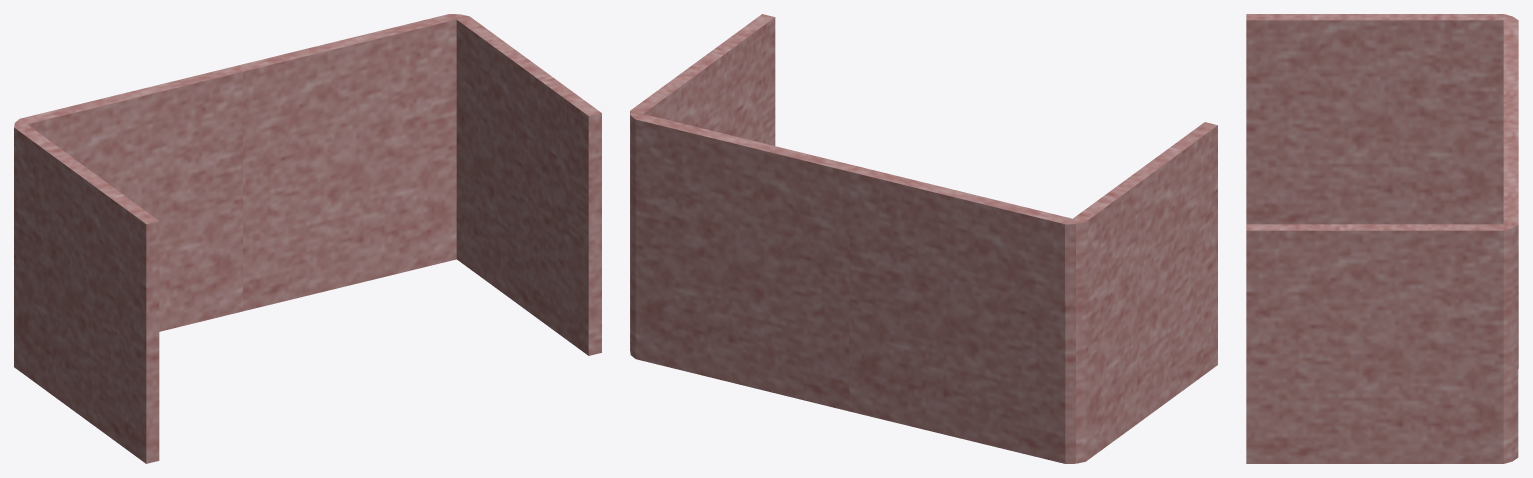
File: divider_full_c_red.obj
The picture shows the model from 3 angles, left to right: view 1: azimuth 30°, elevation 25°; view 2: azimuth 150°, elevation 25°; view 3: azimuth 270°, elevation 25°; orthographic projection. The views are drawn at different scales.
Visible parts, largest first — view 1: divider_full_c_red; view 2: divider_full_c_red; view 3: divider_full_c_red.
Boxes of the visible parts, left/top/right/bottom form: divider_full_c_red: left=14, top=14, right=601, bottom=463; divider_full_c_red: left=630, top=14, right=1217, bottom=463; divider_full_c_red: left=1246, top=14, right=1518, bottom=463.
Size of the model in its own units: 2.99 by 1.5 by 1.59.
